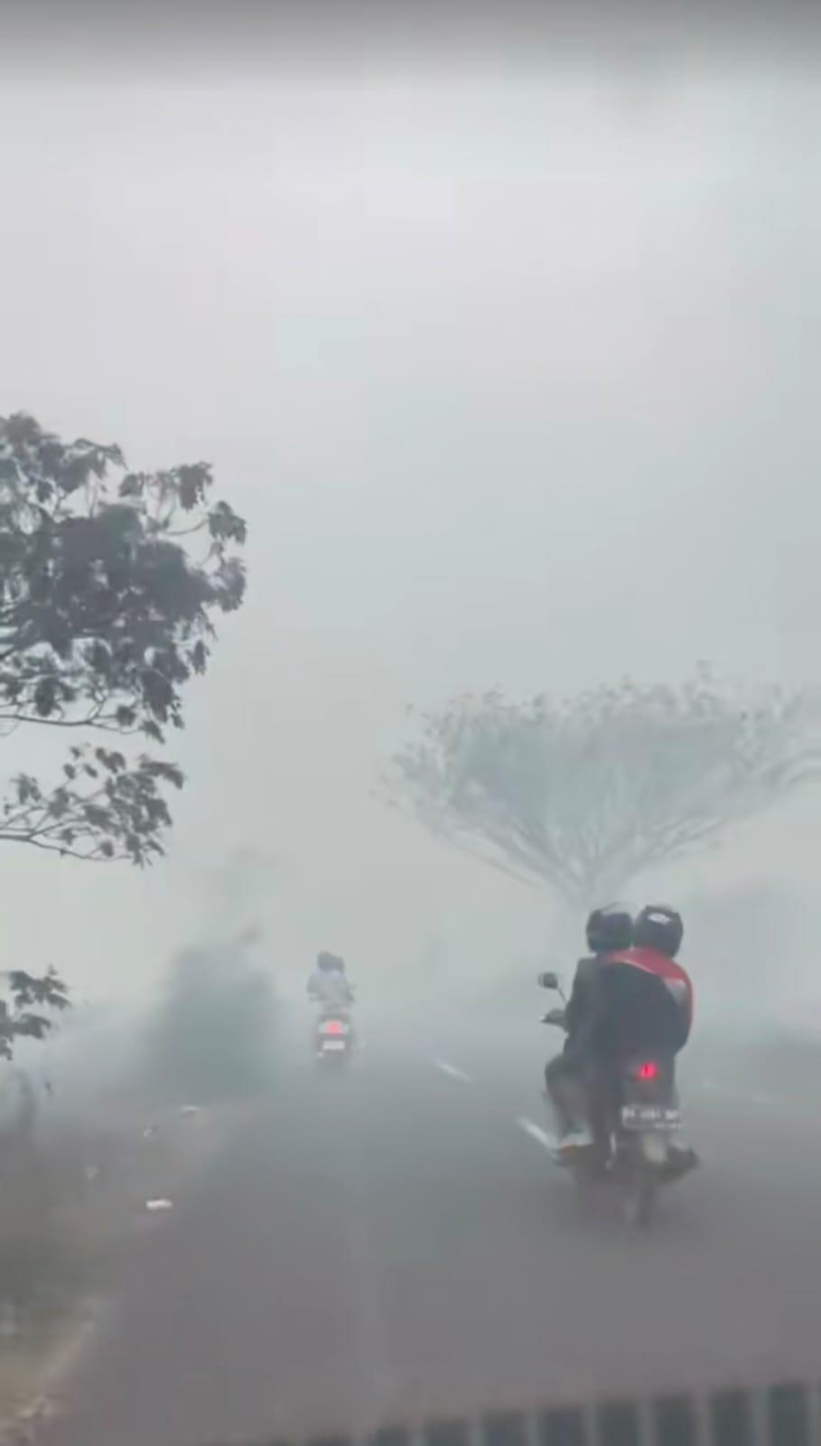Deteksi-Objek-Citra-Berasap: (0, 61, 820, 1154)
Kendaraan: (536, 969, 700, 1225), (312, 997, 357, 1079)
Manusia: (541, 907, 667, 1162), (608, 904, 701, 1180), (306, 951, 357, 1024)
Vegetasi: (381, 661, 820, 949), (0, 408, 248, 867), (0, 965, 74, 1068)
